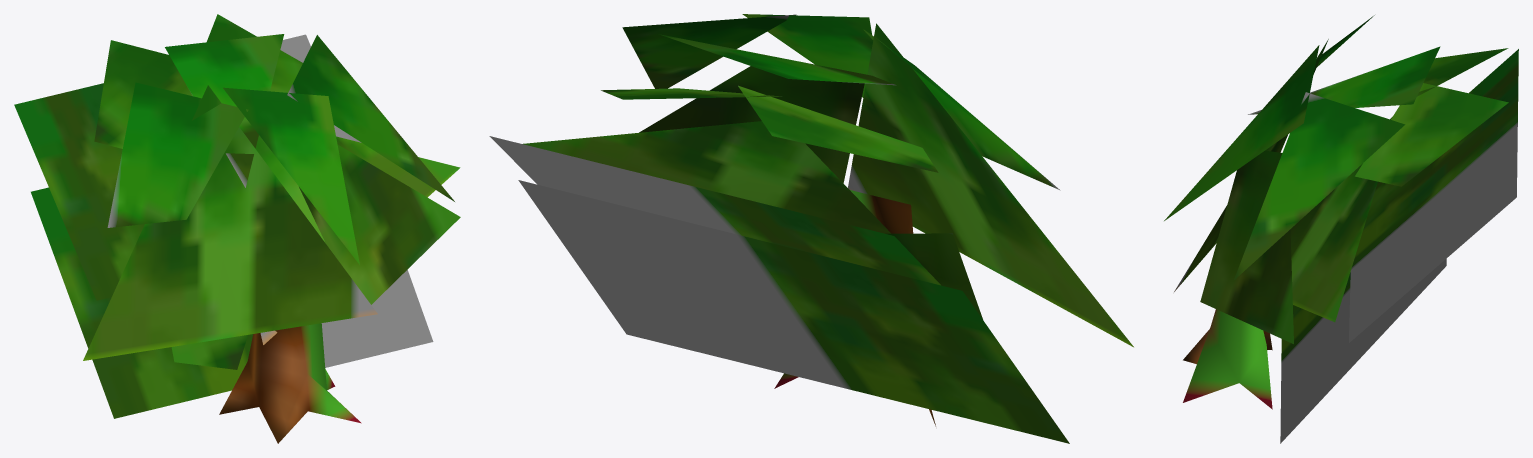
Rendered from fg_bushA_1.dae.
The picture shows the model from 3 angles, left to right: view 1: azimuth 30°, elevation 25°; view 2: azimuth 150°, elevation 25°; view 3: azimuth 270°, elevation 25°; orthographic projection. The views are drawn at different scales.
Visible parts, largest first — view 1: fg_bushA_1; view 2: fg_bushA_1; view 3: fg_bushA_1.
Boxes of the visible parts, x1,y1,x2,y2 form: fg_bushA_1: (14, 14, 460, 443); fg_bushA_1: (489, 14, 1133, 443); fg_bushA_1: (1164, 15, 1518, 443).
Bounding box in the file's own units: 35.43 × 25.39 × 25.39.
Materials: 1 (1 with a texture image).
